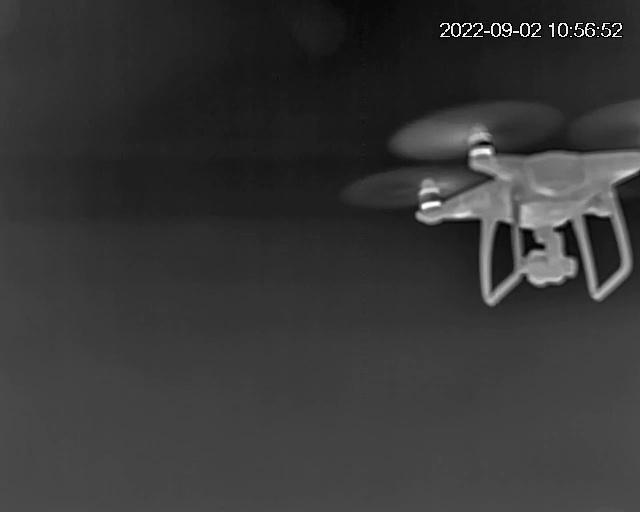DJI-Phantom: (389, 99, 640, 301)
